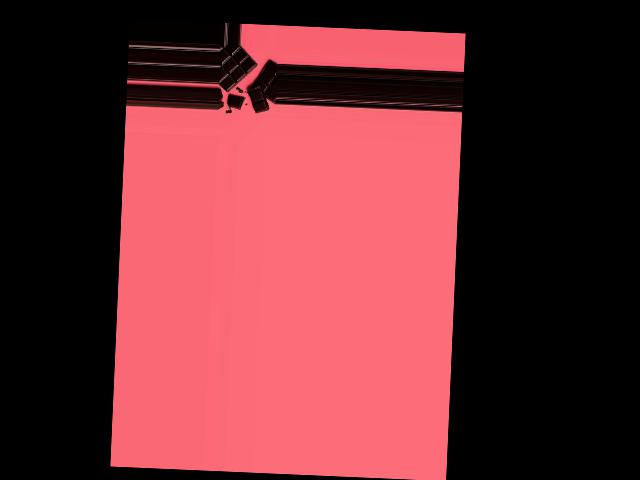chocolate: (217, 43, 274, 109)
